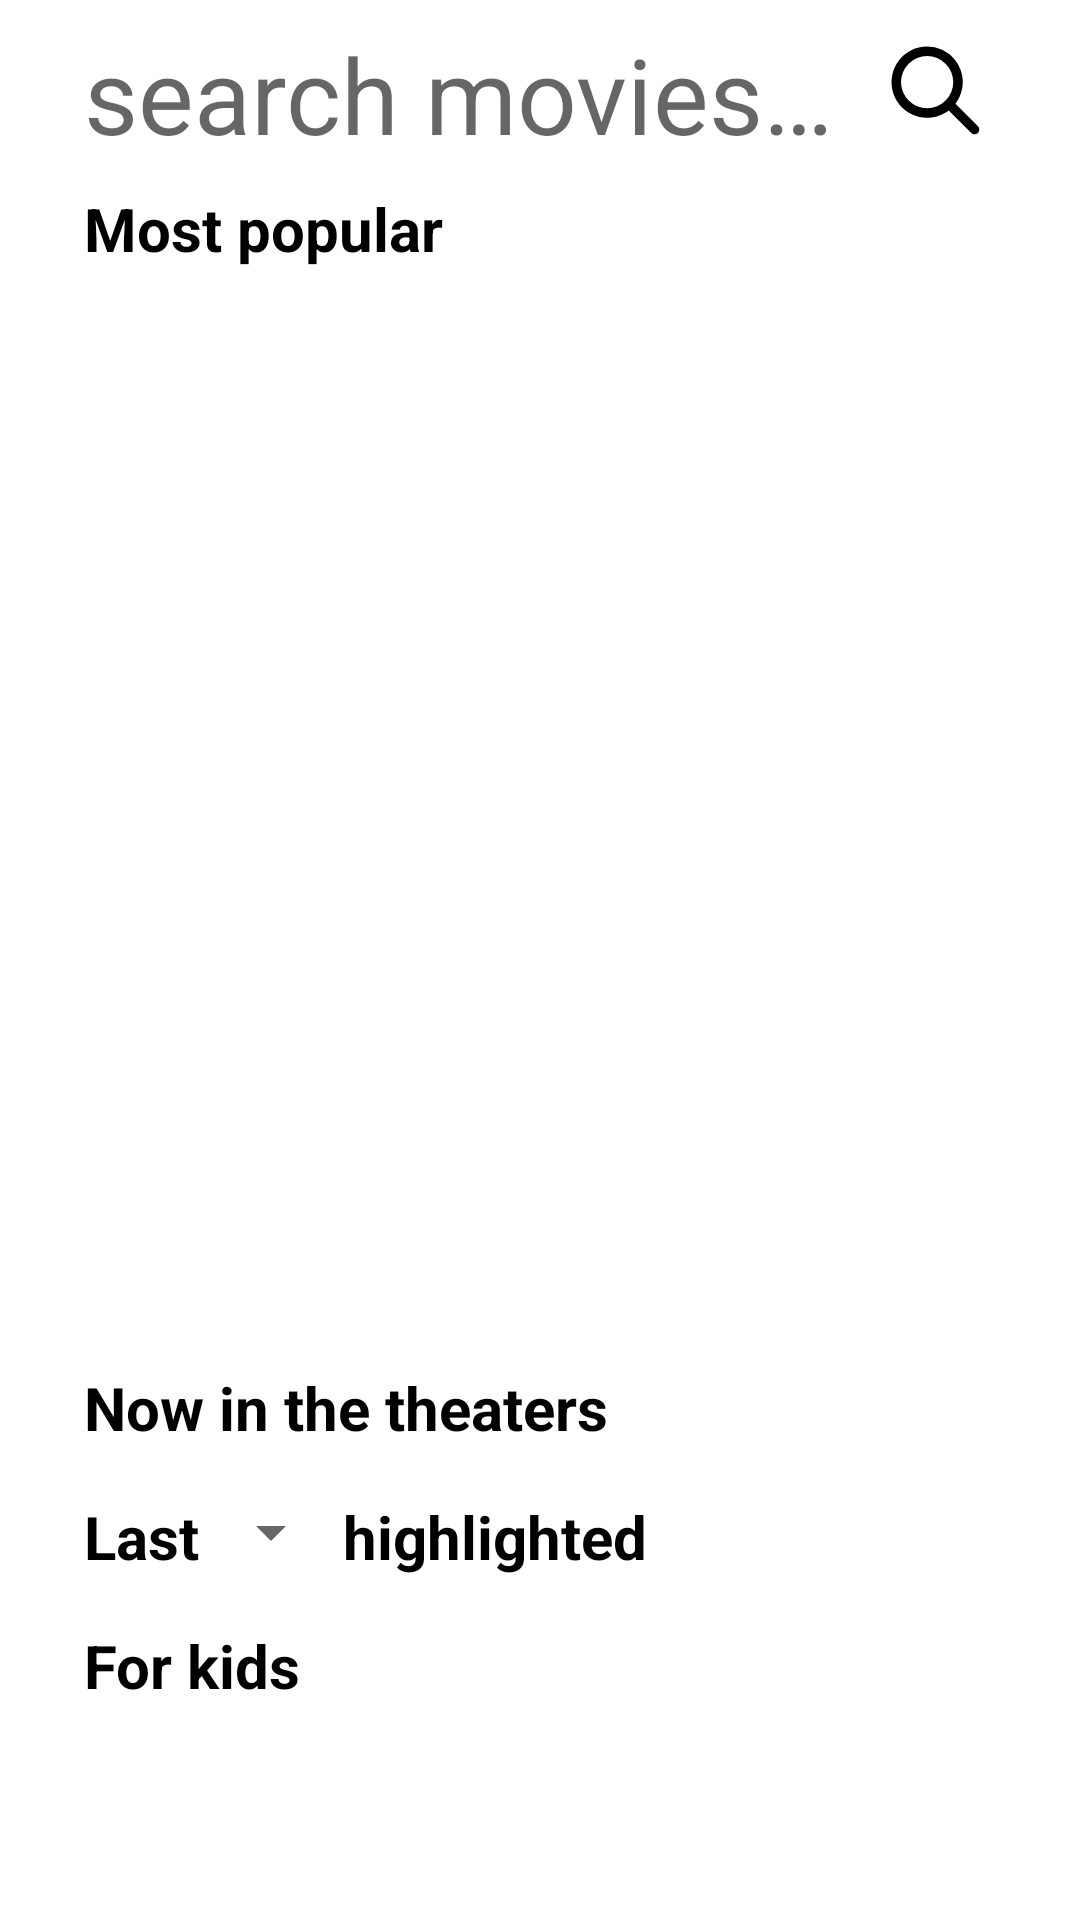

Named icons in this screenshot (1080*1920) and their bounding boxes, (x1, y1, x2, y2):
start searching: (891, 46, 980, 135)
